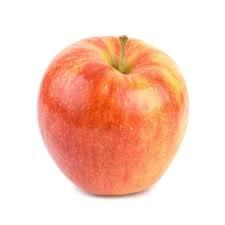Apple: (34, 32, 191, 199)
